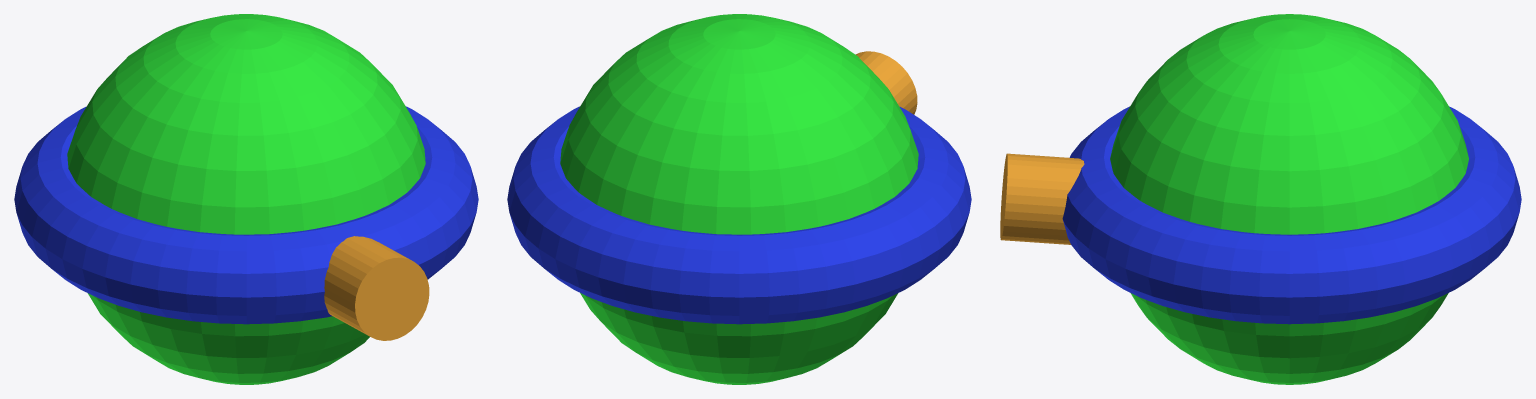
Rendered from enemy.gltf.
3 renders of one model, left to right at view 1: azimuth 30°, elevation 25°; view 2: azimuth 150°, elevation 25°; view 3: azimuth 270°, elevation 25°, orthographic.
Visible parts, largest first — view 1: Sphere, Torus, Cylinder; view 2: Sphere, Torus, Cylinder; view 3: Sphere, Torus, Cylinder.
Part boxes in pixels (x1=…): Sphere: x1=67, y1=14, x2=425, y2=384; Torus: x1=14, y1=106, x2=478, y2=324; Cylinder: x1=324, y1=236, x2=429, y2=340; Sphere: x1=560, y1=14, x2=918, y2=384; Torus: x1=507, y1=106, x2=971, y2=324; Cylinder: x1=855, y1=51, x2=917, y2=114; Sphere: x1=1110, y1=14, x2=1468, y2=384; Torus: x1=1062, y1=106, x2=1521, y2=324; Cylinder: x1=1000, y1=153, x2=1084, y2=244.
Size of the model in its own units: 2.5 by 2 by 2.81.
